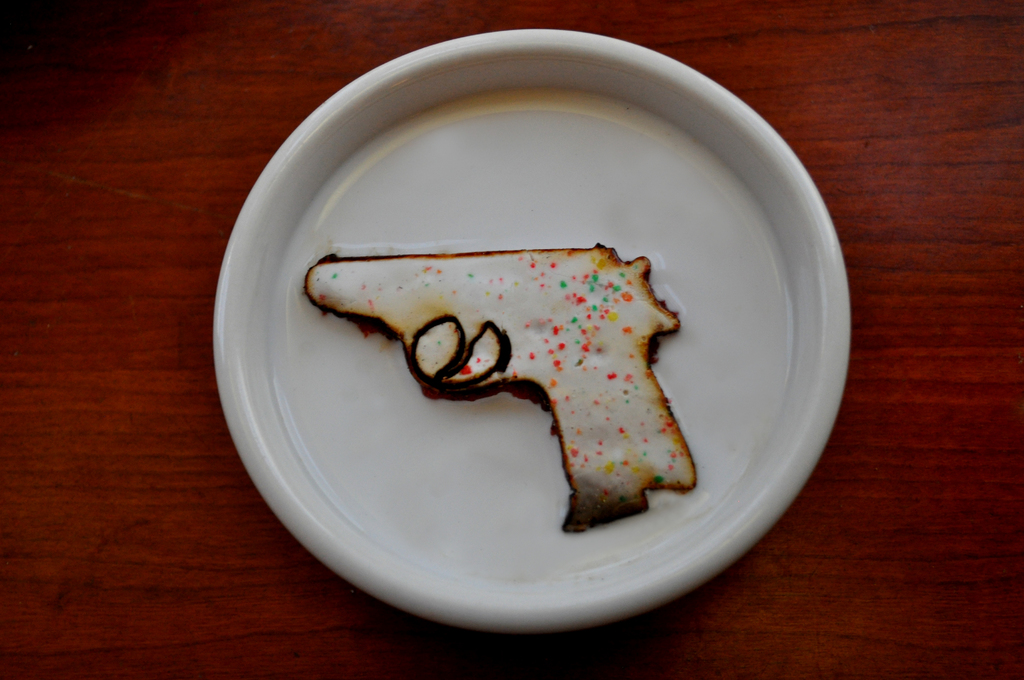plate: (212, 43, 848, 571)
